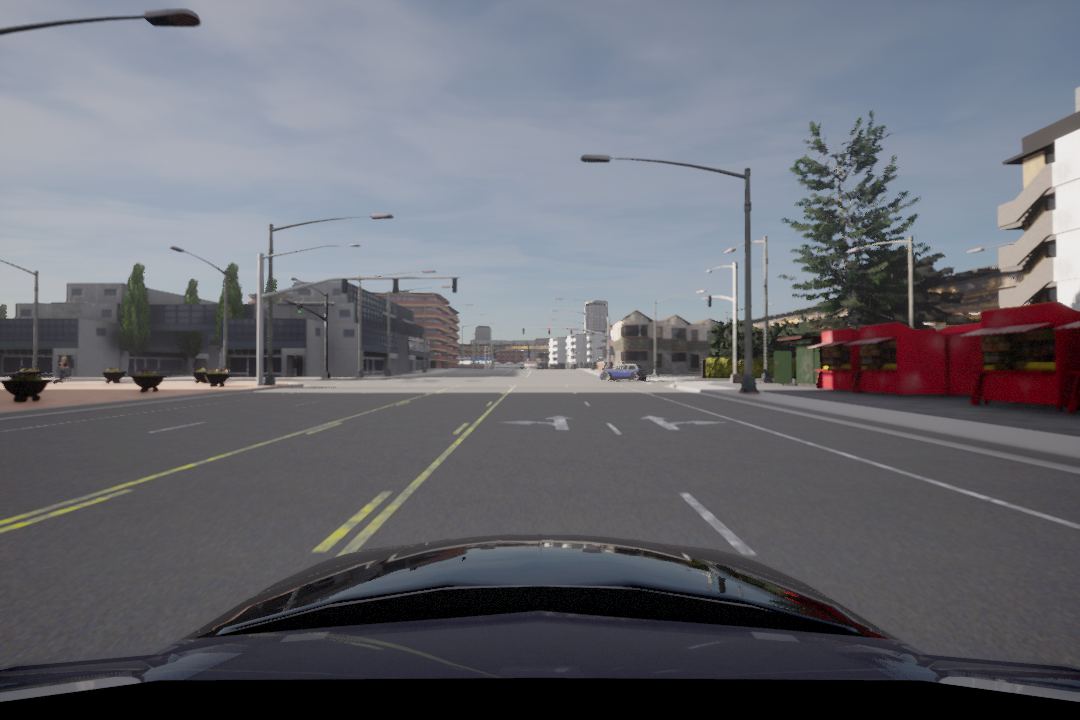RoadSign_forward_left: (494, 411, 580, 436)
RoadSign_forward_right: (633, 413, 727, 432)
